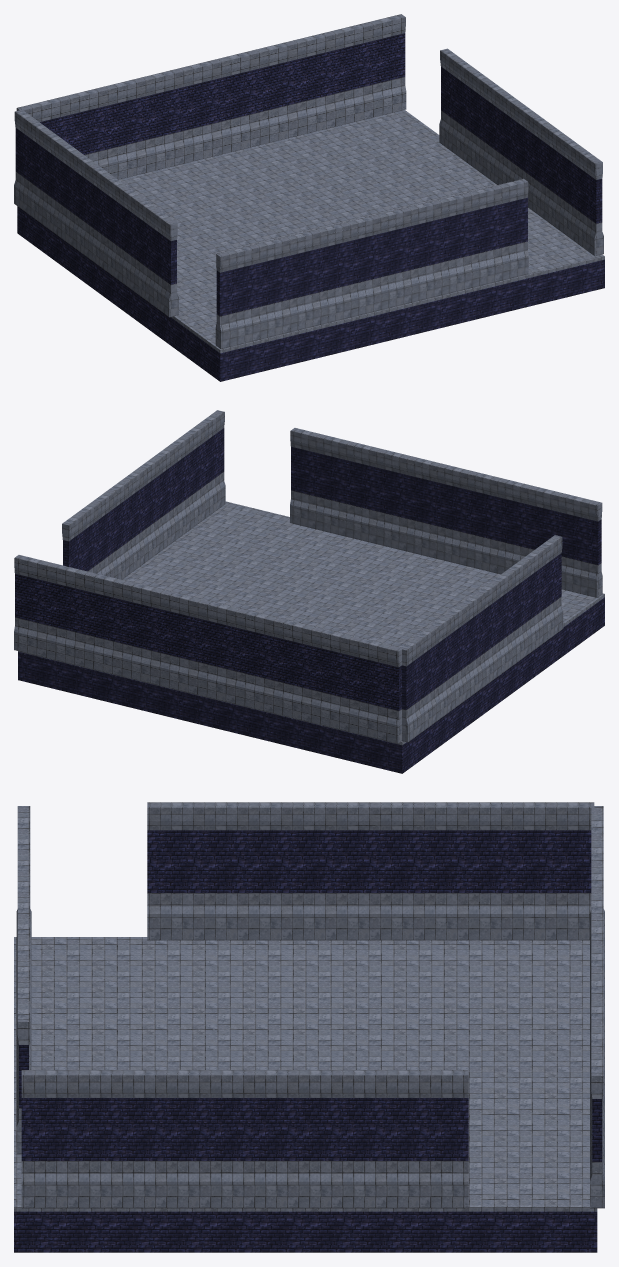
File: threedoor-room.glb
The picture shows the model from 3 angles, top to bottom: view 1: azimuth 30°, elevation 25°; view 2: azimuth 150°, elevation 25°; view 3: azimuth 270°, elevation 25°; orthographic projection. The views are drawn at different scales.
Parts seen in each view (by area): view 1: wall (×4), floor; view 2: wall (×4), floor; view 3: wall (×4), floor.
Part boxes in pixels (<box>): wall (×4): <box>14,14,603,348</box>; floor: <box>17,110,604,381</box>; wall (×4): <box>14,410,602,743</box>; floor: <box>18,501,604,773</box>; wall (×4): <box>16,802,604,1208</box>; floor: <box>14,937,597,1252</box>.
Bounding box in the file's own units: 12.9 × 3.9 × 11.75.
10 materials, 10 textured.
